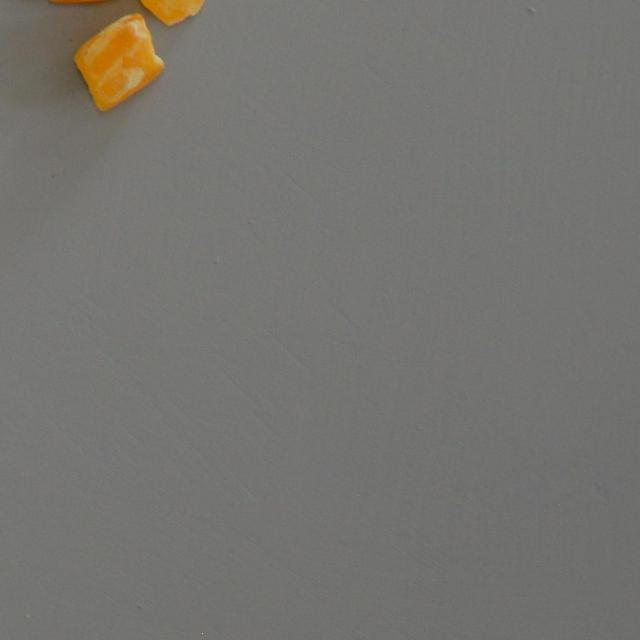pelicula: (72, 12, 166, 112), (121, 0, 206, 26)
